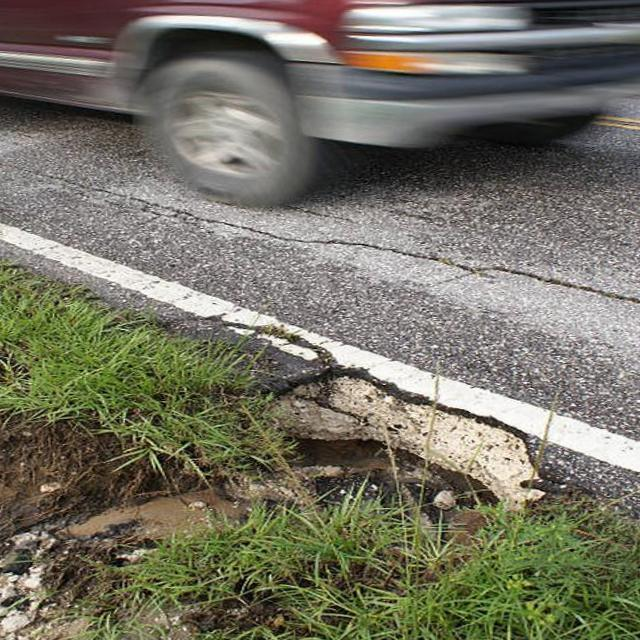Pinggir: (140, 317, 590, 567)
